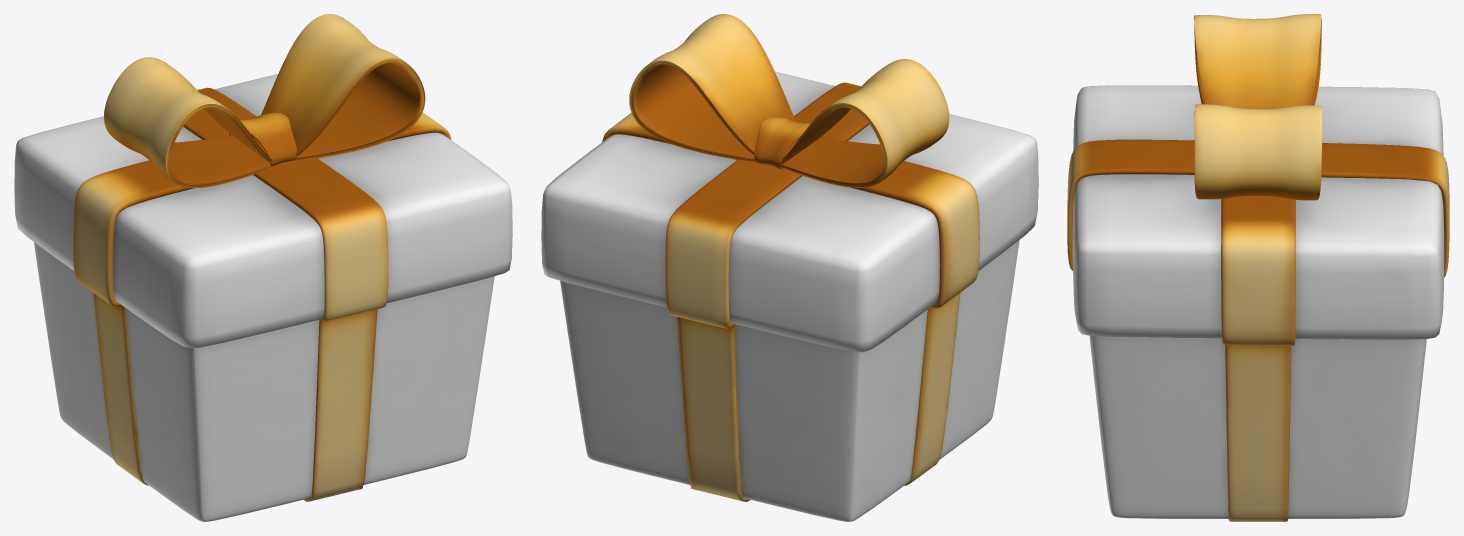
File: gift.glb
3 renders of one model, left to right at view 1: azimuth 30°, elevation 25°; view 2: azimuth 150°, elevation 25°; view 3: azimuth 270°, elevation 25°, orthographic. The views are drawn at different scales.
Visible parts, largest first — view 1: GIFT_BOX; view 2: GIFT_BOX; view 3: GIFT_BOX.
Boxes of the visible parts, <box> form: GIFT_BOX: <box>14,14,512,521</box>; GIFT_BOX: <box>541,14,1038,521</box>; GIFT_BOX: <box>1067,14,1449,521</box>.
Size of the model in its own units: 0.3081 by 0.3341 by 0.287.
Materials: 1 (1 with a texture image).
